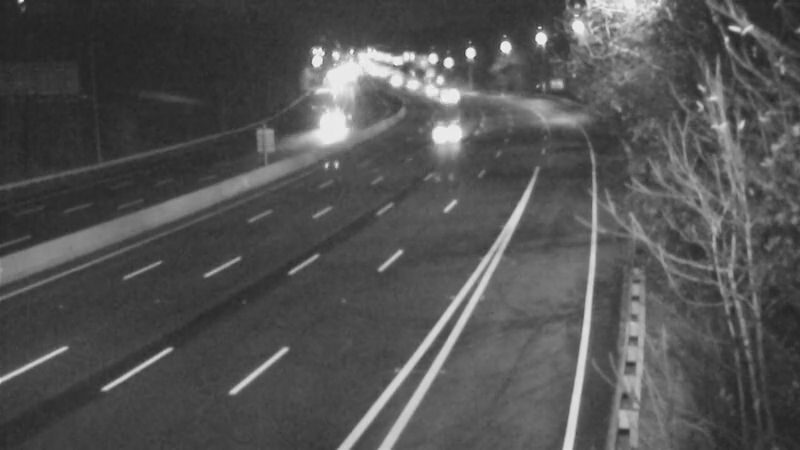vehicle: (386, 61, 436, 111), (405, 62, 455, 112), (423, 72, 473, 122), (428, 109, 478, 159), (302, 103, 352, 153)
